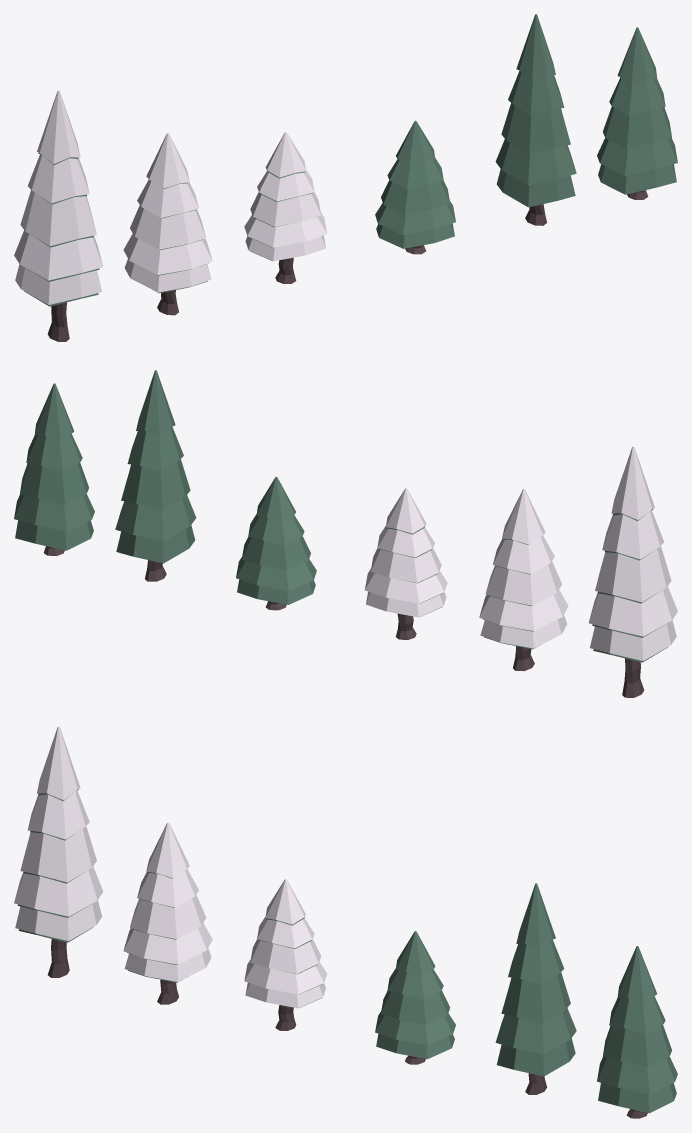
Rendered from PineTrees.fbx.
The picture shows the model from 3 angles, top to bottom: view 1: azimuth 30°, elevation 25°; view 2: azimuth 150°, elevation 25°; view 3: azimuth 330°, elevation 25°; orthographic projection.
Visible parts, largest first — view 1: SnowPineTreeLarge, PineTreeLarge, SnowPineTreeMedium, PineTreeMedium, SnowPineTreeSmall, PineTreeSmall; view 2: SnowPineTreeLarge, PineTreeLarge, SnowPineTreeMedium, PineTreeMedium, SnowPineTreeSmall, PineTreeSmall; view 3: SnowPineTreeLarge, PineTreeLarge, SnowPineTreeMedium, PineTreeMedium, SnowPineTreeSmall, PineTreeSmall.
Boxes of the visible parts, left/top/right/bottom form: SnowPineTreeLarge: left=14, top=90, right=103, bottom=341; PineTreeLarge: left=495, top=14, right=576, bottom=225; SnowPineTreeMedium: left=123, top=133, right=212, bottom=315; PineTreeMedium: left=597, top=27, right=677, bottom=199; SnowPineTreeSmall: left=244, top=132, right=326, bottom=283; PineTreeSmall: left=375, top=120, right=455, bottom=254; SnowPineTreeLarge: left=588, top=446, right=677, bottom=697; PineTreeLarge: left=115, top=370, right=196, bottom=581; SnowPineTreeMedium: left=479, top=489, right=568, bottom=671; PineTreeMedium: left=14, top=383, right=94, bottom=555; SnowPineTreeSmall: left=365, top=488, right=447, bottom=639; PineTreeSmall: left=236, top=477, right=316, bottom=610; SnowPineTreeLarge: left=14, top=726, right=103, bottom=977; PineTreeLarge: left=495, top=883, right=576, bottom=1094; SnowPineTreeMedium: left=123, top=822, right=212, bottom=1004; PineTreeMedium: left=597, top=946, right=677, bottom=1118; SnowPineTreeSmall: left=244, top=879, right=327, bottom=1030; PineTreeSmall: left=375, top=931, right=455, bottom=1064.
Size of the model in its own units: 5613 by 2017 by 722.
